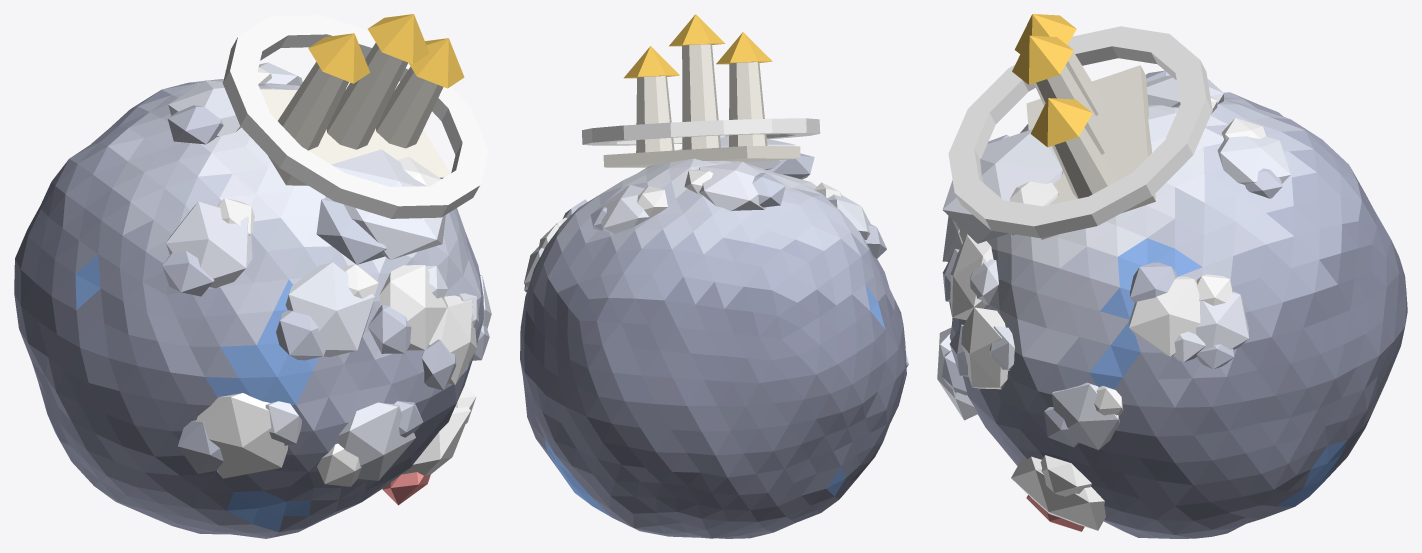
The model's file is Cloud_10.fbx.
3 renders of one model, left to right at view 1: azimuth 30°, elevation 25°; view 2: azimuth 150°, elevation 25°; view 3: azimuth 270°, elevation 25°, orthographic. The views are drawn at different scales.
Parts seen in each view (by area): view 1: Cloud_10; view 2: Cloud_10; view 3: Cloud_10.
Boxes of the visible parts, x1,y1,x2,y2 form: Cloud_10: [14, 14, 491, 538]; Cloud_10: [520, 14, 908, 538]; Cloud_10: [937, 14, 1407, 538].
Bounding box in the file's own units: 6.1 × 7.69 × 6.27.
1 material, 1 textured.
